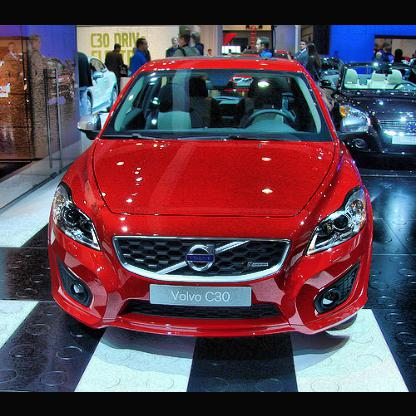Volvo C30 Hatchback 2012: (49, 63, 378, 351)
